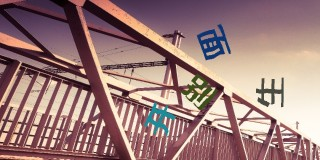别: (181, 73, 219, 111)
开: (141, 101, 176, 136)
生: (256, 74, 284, 110)
面: (196, 23, 232, 61)
